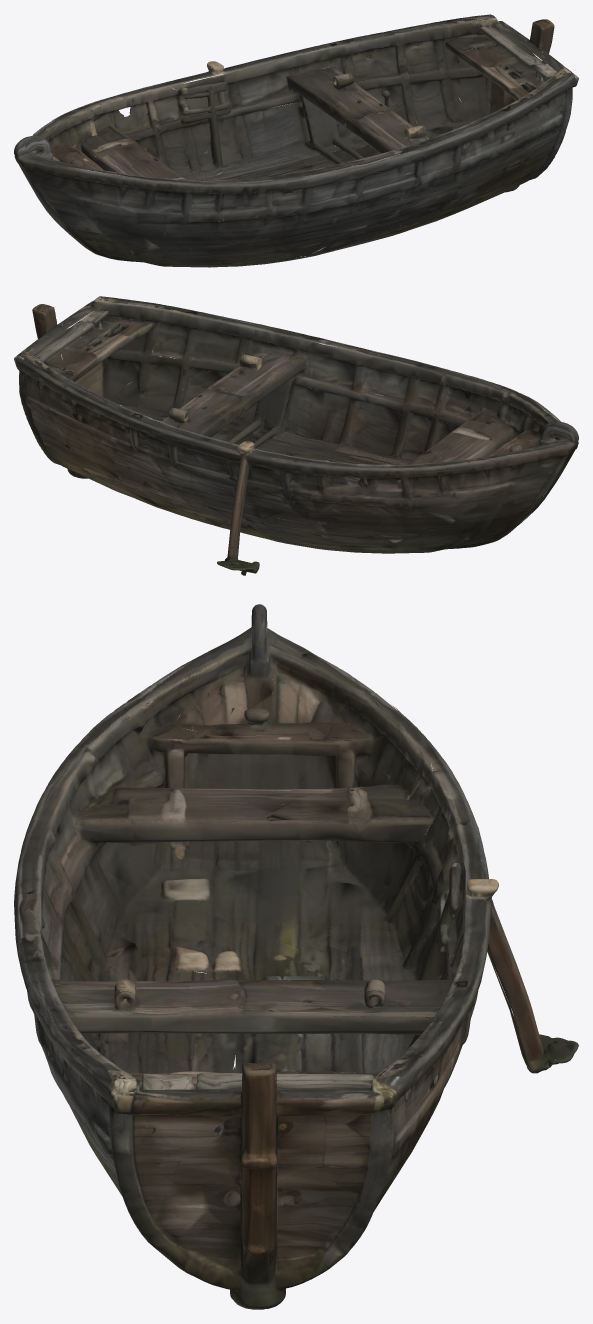
The model's file is rowboat.glb.
The picture shows the model from 3 angles, top to bottom: view 1: azimuth 30°, elevation 25°; view 2: azimuth 150°, elevation 25°; view 3: azimuth 270°, elevation 25°; orthographic projection. The views are drawn at different scales.
Visible parts, largest first — view 1: tripo_node_e561c802-57f6-420c-b1d9-ff02c811b24d; view 2: tripo_node_e561c802-57f6-420c-b1d9-ff02c811b24d; view 3: tripo_node_e561c802-57f6-420c-b1d9-ff02c811b24d.
Boxes of the visible parts, bbox=[...] form: tripo_node_e561c802-57f6-420c-b1d9-ff02c811b24d: bbox=[14, 14, 578, 267]; tripo_node_e561c802-57f6-420c-b1d9-ff02c811b24d: bbox=[14, 296, 578, 575]; tripo_node_e561c802-57f6-420c-b1d9-ff02c811b24d: bbox=[14, 604, 578, 1309].
Size of the model in its own units: 3.7 by 1.1 by 1.93.
Materials: 1 (1 with a texture image).
